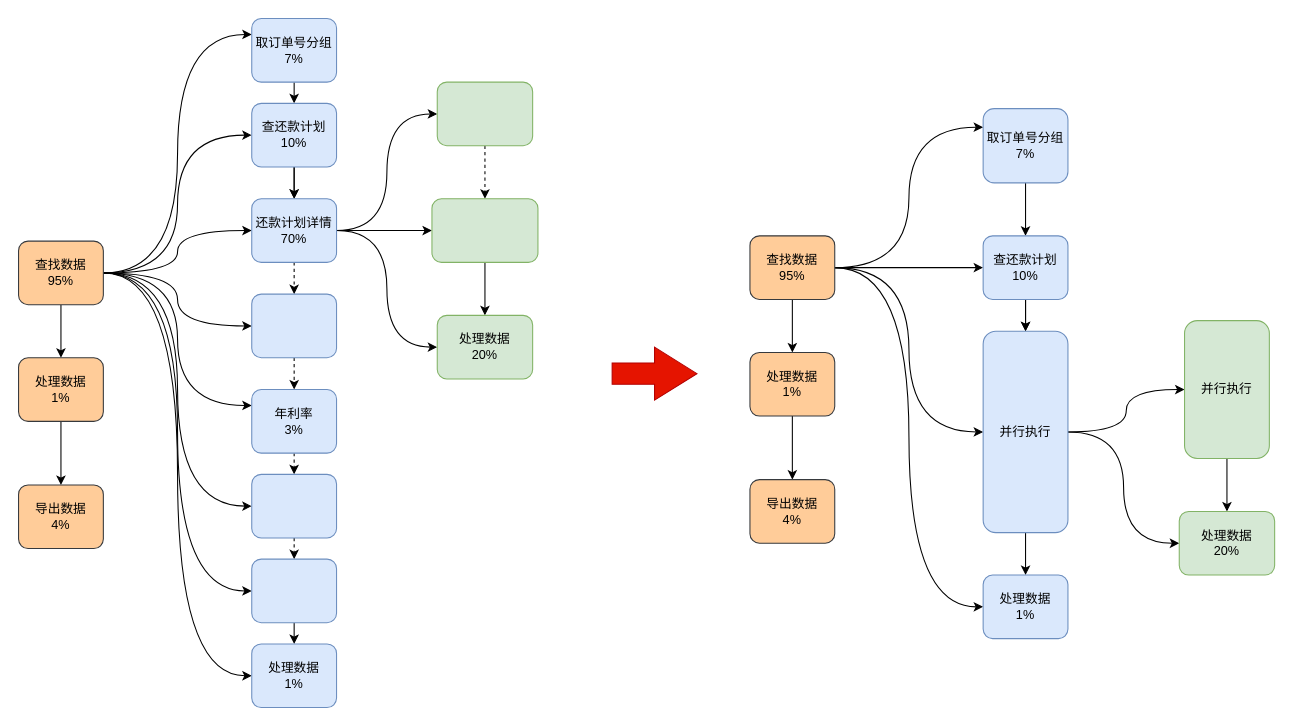
Some shapes in this 1293 by 726 pixel diagram are drawn without their labels. The shapes that lost their labels are listed below. From the top down, each one's box as (x1, y1, x2, y2) in pixels, then its label:
(436, 81, 533, 146): RepayDetail 30%
(431, 198, 538, 262): repayDetailCost 50%
(251, 293, 337, 358): 放款日期 3%
(251, 473, 337, 538): 减免金额 3%
(251, 558, 337, 623): 催收回款金额 3%
